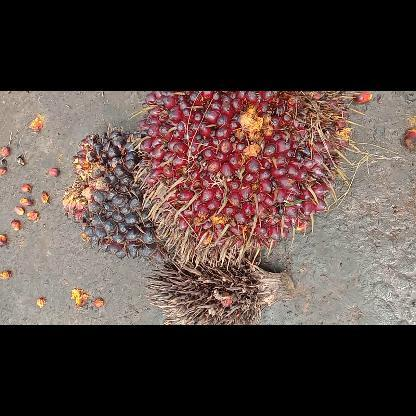Janjang kosong: (145, 252, 296, 324)
TBS masak: (133, 90, 363, 270)
TBS mentah: (64, 122, 176, 264)
